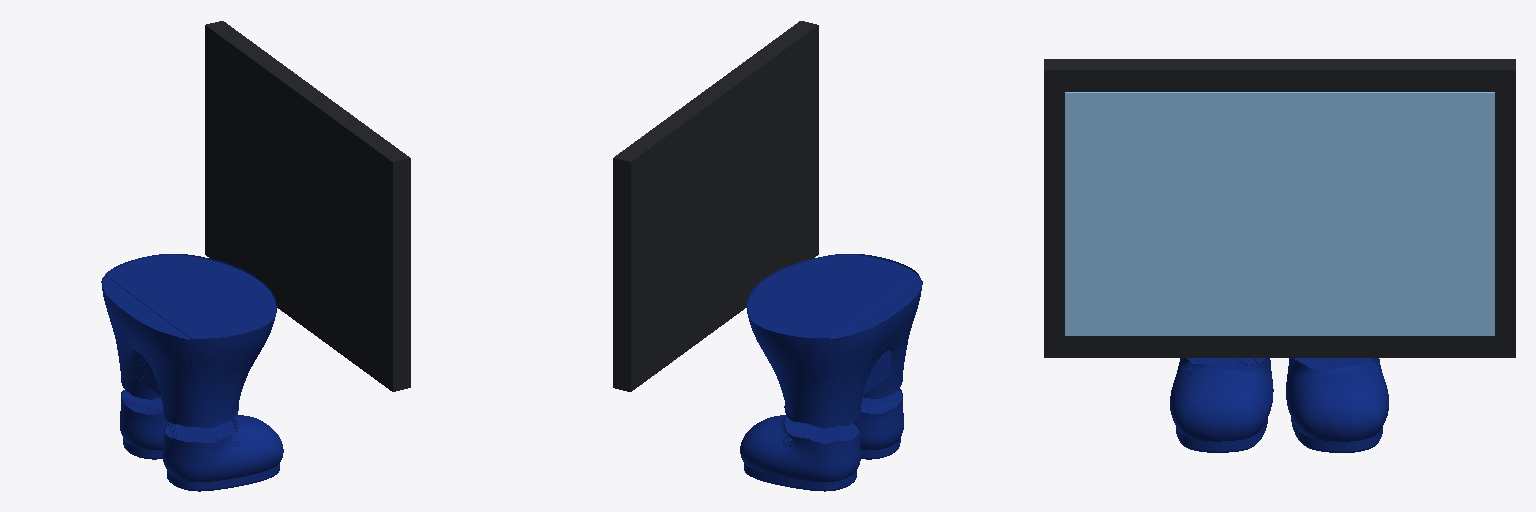
URDF robot description (haetburi):
<?xml version="1.0"?>
<!-- Haetburi biped (v14_scs0009_hidden) - generated by tools/build_model.py, do not edit by hand -->
<robot name="haetburi">
  <mujoco>
    <compiler meshdir="." balanceinertia="true" discardvisual="false" strippath="false" fusestatic="false"/>
  </mujoco>
  <material name="display"><color rgba="0.18 0.19 0.21 1"/></material>
  <material name="screen"><color rgba="0.62 0.80 0.95 1"/></material>
  <material name="shell"><color rgba="0.106 0.216 0.541 1"/></material>
  <material name="motor"><color rgba="0.15 0.15 0.17 1"/></material>
  <material name="foot"><color rgba="0.25 0.25 0.28 1"/></material>
  <link name="world"/>
  <joint name="floating_base" type="floating">
    <parent link="world"/><child link="pelvis"/>
    <origin xyz="0 0 0" rpy="0 0 0"/>
  </joint>
  <link name="pelvis">
    <inertial>
      <origin xyz="0.0097263 -4.87134e-05 0.0205655" rpy="0 0 0"/>
      <mass value="0.131027"/>
      <inertia ixx="4.38717e-05" ixy="-4.88381e-08" ixz="-3.58043e-06" iyy="3.22931e-05" iyz="3.92503e-09" izz="5.35545e-05"/>
    </inertial>
    <visual><origin xyz="0 0 0" rpy="0 0 0"/><geometry><mesh filename="meshes/pelvis.stl"/></geometry><material name="shell"/></visual>
    <visual><origin xyz="0.00560197 0.0182963 0.024625" rpy="0 0 0"/><geometry><box size="0.0232 0.0121 0.02525"/></geometry><material name="motor"/></visual>
    <visual><origin xyz="0.00559803 -0.0185221 0.024625" rpy="0 0 0"/><geometry><box size="0.0232 0.0121 0.02525"/></geometry><material name="motor"/></visual>
    <collision><origin xyz="0.0055805 -0.000109329 0.01952" rpy="0 0 0"/><geometry><box size="0.0669075 0.0888493 0.03904"/></geometry></collision>
  </link>
  <link name="torso">
    <inertial>
      <origin xyz="0.016319 7.72691e-05 0.0965368" rpy="0 0 0"/>
      <mass value="0.901556"/>
      <inertia ixx="0.00825268" ixy="-2.39546e-05" ixz="0.00150206" iyy="0.00830177" iyz="-2.31102e-05" izz="0.00450974"/>
    </inertial>
    <visual><origin xyz="0 0 0" rpy="0 0 0"/><geometry><mesh filename="meshes/torso.stl"/></geometry><material name="shell"/></visual>
    <visual><origin xyz="0.062786 0 0.0289837" rpy="0 0 0"/><geometry><box size="0.008832 0.161664 0.109286"/></geometry><material name="display"/></visual>
    <visual><origin xyz="0.067202 0 0.0289837" rpy="0 0 0"/><geometry><box size="0.0004 0.147456 0.09216"/></geometry><material name="screen"/></visual>
    <collision><origin xyz="-0.0291512 -1.35704e-06 0.0215066" rpy="0 0 0"/><geometry><box size="0.136832 0.0927821 0.0913706"/></geometry></collision>
    <collision><origin xyz="0.0355968 0.0718681 0.0433374" rpy="0 0 0"/><geometry><sphere radius="0.0519864"/></geometry></collision>
    <collision><origin xyz="0.0358429 -0.0719783 0.0433374" rpy="0 0 0"/><geometry><sphere radius="0.0519364"/></geometry></collision>
    <collision><origin xyz="-0.004468 0.000228497 0.0877353" rpy="0 0 0"/><geometry><sphere radius="0.0891668"/></geometry></collision>
    <collision><origin xyz="-0.00778564 -0.000105052 0.128794" rpy="0 0 0"/><geometry><sphere radius="0.102872"/></geometry></collision>
    <collision><origin xyz="-0.0118553 -0.000173384 0.169861" rpy="0 0 0"/><geometry><sphere radius="0.101681"/></geometry></collision>
    <collision><origin xyz="-0.00930047 0.000732431 0.210925" rpy="0 0 0"/><geometry><sphere radius="0.088415"/></geometry></collision>
    <collision><origin xyz="-0.00550337 0.0057974 0.252014" rpy="0 0 0"/><geometry><sphere radius="0.0630195"/></geometry></collision>
    <collision><origin xyz="-0.0100857 -0.00191617 0.293068" rpy="0 0 0"/><geometry><sphere radius="0.0365721"/></geometry></collision>
    <collision><origin xyz="0.062786 0 0.0289837" rpy="0 0 0"/><geometry><box size="0.008832 0.161664 0.109286"/></geometry></collision>
  </link>
  <link name="leg_l">
    <inertial>
      <origin xyz="-0.000245192 -8.84352e-05 -0.0166362" rpy="0 0 0"/>
      <mass value="0.0143302"/>
      <inertia ixx="2.90545e-06" ixy="-1.497e-09" ixz="3.49708e-08" iyy="1.82568e-06" iyz="1.54605e-08" izz="2.68445e-06"/>
    </inertial>
    <visual><origin xyz="0 0 0" rpy="0 0 0"/><geometry><mesh filename="meshes/leg_l.stl"/></geometry><material name="shell"/></visual>
    <collision><origin xyz="-4.23293e-07 -5.83547e-06 -0.00456995" rpy="0 0 0"/><geometry><box size="0.0349014 0.0319756 0.0091399"/></geometry></collision>
  </link>
  <link name="foot_l">
    <inertial>
      <origin xyz="0.000411766 0.00389255 -0.00232073" rpy="0 0 0"/>
      <mass value="0.0454368"/>
      <inertia ixx="5.1883e-06" ixy="-2.3182e-07" ixz="-8.67415e-08" iyy="7.0546e-06" iyz="-5.18059e-07" izz="8.13425e-06"/>
    </inertial>
    <visual><origin xyz="0 0 0" rpy="0 0 0"/><geometry><mesh filename="meshes/foot_l.stl"/></geometry><material name="shell"/></visual>
    <visual><origin xyz="0 0.0056 3.42901e-19" rpy="0 0 0"/><geometry><box size="0.02525 0.0232 0.0121"/></geometry><material name="motor"/></visual>
    <collision><origin xyz="0 0 0" rpy="0 0 0"/><geometry><mesh filename="meshes/foot_l.stl"/></geometry></collision>
  </link>
  <link name="leg_r">
    <inertial>
      <origin xyz="-0.000183401 0.000101913 -0.016554" rpy="0 0 0"/>
      <mass value="0.0143765"/>
      <inertia ixx="2.92499e-06" ixy="-5.8794e-09" ixz="2.72396e-08" iyy="1.82997e-06" iyz="-1.78241e-08" izz="2.69635e-06"/>
    </inertial>
    <visual><origin xyz="0 0 0" rpy="0 0 0"/><geometry><mesh filename="meshes/leg_r.stl"/></geometry><material name="shell"/></visual>
    <collision><origin xyz="1.01087e-06 9.25105e-06 -0.00451135" rpy="0 0 0"/><geometry><box size="0.0348732 0.0320371 0.0090227"/></geometry></collision>
  </link>
  <link name="foot_r">
    <inertial>
      <origin xyz="0.000349027 -0.0038772 -0.00234477" rpy="0 0 0"/>
      <mass value="0.0453682"/>
      <inertia ixx="5.15499e-06" ixy="2.36972e-07" ixz="-6.72789e-08" iyy="7.01847e-06" iyz="5.15277e-07" izz="8.10368e-06"/>
    </inertial>
    <visual><origin xyz="0 0 0" rpy="0 0 0"/><geometry><mesh filename="meshes/foot_r.stl"/></geometry><material name="shell"/></visual>
    <visual><origin xyz="0 -0.0056 3.42901e-19" rpy="0 0 0"/><geometry><box size="0.02525 0.0232 0.0121"/></geometry><material name="motor"/></visual>
    <collision><origin xyz="0 0 0" rpy="0 0 0"/><geometry><mesh filename="meshes/foot_r.stl"/></geometry></collision>
  </link>
  <joint name="waist_fixed" type="fixed">
    <parent link="pelvis"/><child link="torso"/>
    <origin xyz="0 0 0.03904" rpy="0 0 0"/>
  </joint>
  <joint name="hip_yaw_l" type="revolute">
    <parent link="pelvis"/><child link="leg_l"/>
    <origin xyz="1.97068e-06 0.0182963 0" rpy="0 0 0"/>
    <axis xyz="0 0 1"/>
    <limit lower="-0.523599" upper="0.523599" effort="0.226" velocity="10.5"/>
    <dynamics damping="0.016142857142857146" friction="0.006457142857142858"/>
  </joint>
  <joint name="hip_yaw_r" type="revolute">
    <parent link="pelvis"/><child link="leg_r"/>
    <origin xyz="-1.97068e-06 -0.0185221 0" rpy="0 0 0"/>
    <axis xyz="0 0 1"/>
    <limit lower="-0.523599" upper="0.523599" effort="0.226" velocity="10.5"/>
    <dynamics damping="0.016142857142857146" friction="0.006457142857142858"/>
  </joint>
  <joint name="ankle_roll_l" type="revolute">
    <parent link="leg_l"/><child link="foot_l"/>
    <origin xyz="0.00836715 -0.00460301 -0.03037" rpy="0 0 0"/>
    <axis xyz="1 0 0"/>
    <limit lower="-0.261799" upper="0.261799" effort="0.226" velocity="10.5"/>
    <dynamics damping="0.016142857142857146" friction="0.006457142857142858"/>
  </joint>
  <joint name="ankle_roll_r" type="revolute">
    <parent link="leg_r"/><child link="foot_r"/>
    <origin xyz="0.00845671 0.00455261 -0.03037" rpy="0 0 0"/>
    <axis xyz="1 0 0"/>
    <limit lower="-0.261799" upper="0.261799" effort="0.226" velocity="10.5"/>
    <dynamics damping="0.016142857142857146" friction="0.006457142857142858"/>
  </joint>
</robot>

--- Facts derived from the render (not from the file) ---
Views: 3 orthographic renders of the robot side by side, from view 1: azimuth 30°, elevation 25°; view 2: azimuth 150°, elevation 25°; view 3: azimuth 270°, elevation 25°.
Robot: haetburi — 7 links, 6 joints (4 revolute, 1 fixed, 1 floating); root link world; default pose: all joints at 0.
Visible links, largest first — view 1: torso, pelvis, foot_r, foot_l, leg_r, leg_l; view 2: torso, pelvis, foot_l, foot_r, leg_l, leg_r; view 3: torso, foot_r, foot_l.
Link boxes in pixels (x1,y1,x2,y2): torso: [205, 21, 410, 391]; pelvis: [101, 254, 276, 412]; foot_r: [163, 415, 283, 491]; foot_l: [120, 390, 167, 459]; leg_r: [161, 398, 239, 427]; leg_l: [120, 368, 160, 399]; torso: [613, 21, 818, 391]; pelvis: [746, 254, 922, 412]; foot_l: [740, 415, 860, 491]; foot_r: [854, 388, 903, 459]; leg_l: [784, 398, 862, 428]; leg_r: [863, 367, 903, 398]; torso: [1044, 59, 1515, 357]; foot_r: [1170, 358, 1273, 452]; foot_l: [1286, 358, 1388, 452].
Size in the robot's own frame: 0.0953 by 0.1617 by 0.1612 metres.
Meshes: 6 distinct files referenced, 5 mesh visuals loaded (5 binary STL); not drawn: 1 (reference not matched to a file when rendering).
